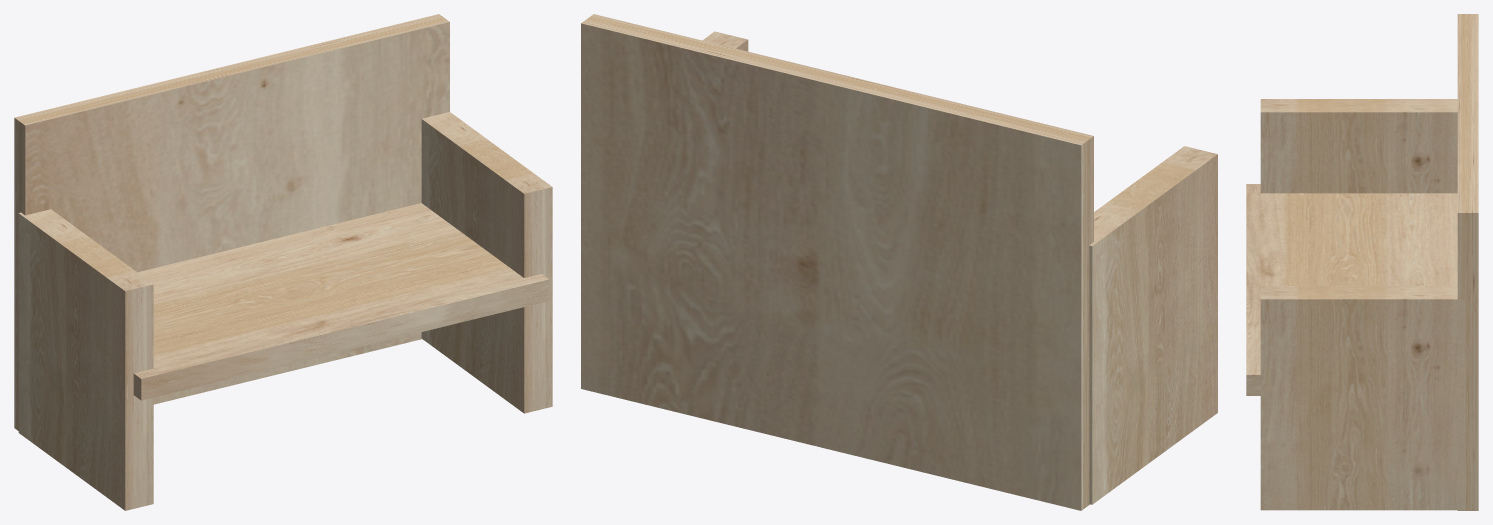
File: chair.fbx
3 renders of one model, left to right at view 1: azimuth 30°, elevation 25°; view 2: azimuth 150°, elevation 25°; view 3: azimuth 270°, elevation 25°, orthographic. The views are drawn at different scales.
Parts seen in each view (by area): view 1: Cube, Cubo.002, Cubo, Cubo.001; view 2: Cube, Cubo; view 3: Cubo.001, Cubo.002, Cubo, Cube.
Boxes of the visible parts, left/top/right/bottom form: Cube: left=14, top=14, right=449, bottom=430; Cubo.002: left=133, top=203, right=549, bottom=400; Cubo: left=18, top=209, right=153, bottom=510; Cubo.001: left=421, top=112, right=552, bottom=413; Cube: left=581, top=14, right=1093, bottom=510; Cubo: left=1089, top=146, right=1217, bottom=504; Cubo.001: left=1260, top=286, right=1465, bottom=510; Cubo.002: left=1246, top=184, right=1457, bottom=395; Cubo: left=1260, top=99, right=1457, bottom=193; Cube: left=1457, top=14, right=1478, bottom=510.
Bounding box in the file's own units: 1218 × 846 × 597.
Materials: 4 (4 with a texture image).
